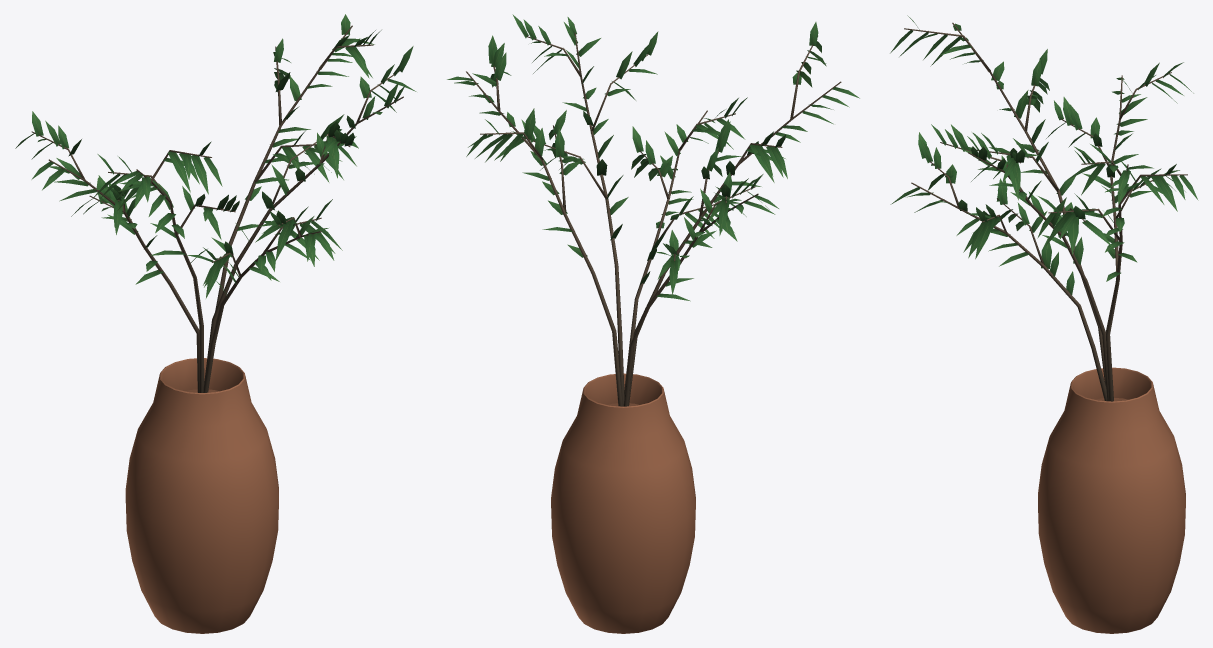
Rendered from decor_d_floor_vase_guest.gltf.
3 renders of one model, left to right at view 1: azimuth 30°, elevation 25°; view 2: azimuth 150°, elevation 25°; view 3: azimuth 270°, elevation 25°, orthographic. The views are drawn at different scales.
Visible parts, largest first — view 1: DecorD_FloorVase_Guest_Vase01_Terracotta, DecorD_FloorVase_Guest_Leaf_NoCollide, DecorD_FloorVase_Guest_Bark_NoCollide; view 2: DecorD_FloorVase_Guest_Vase01_Terracotta, DecorD_FloorVase_Guest_Leaf_NoCollide, DecorD_FloorVase_Guest_Bark_NoCollide; view 3: DecorD_FloorVase_Guest_Vase01_Terracotta, DecorD_FloorVase_Guest_Leaf_NoCollide, DecorD_FloorVase_Guest_Bark_NoCollide.
Boxes of the visible parts, x1,y1,x2,y2 form: DecorD_FloorVase_Guest_Vase01_Terracotta: (125,358,278,633); DecorD_FloorVase_Guest_Leaf_NoCollide: (15,14,416,298); DecorD_FloorVase_Guest_Bark_NoCollide: (31,25,403,392); DecorD_FloorVase_Guest_Vase01_Terracotta: (551,373,695,633); DecorD_FloorVase_Guest_Leaf_NoCollide: (447,14,859,301); DecorD_FloorVase_Guest_Bark_NoCollide: (466,24,841,406); DecorD_FloorVase_Guest_Vase01_Terracotta: (1038,367,1185,633); DecorD_FloorVase_Guest_Leaf_NoCollide: (890,15,1198,294); DecorD_FloorVase_Guest_Bark_NoCollide: (904,22,1187,401).
Size of the model in its own units: 0.796 by 1.26 by 0.6346.
Materials: 3 (1 with a texture image).
